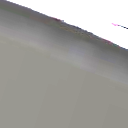crackTip: (109, 19, 128, 31)
